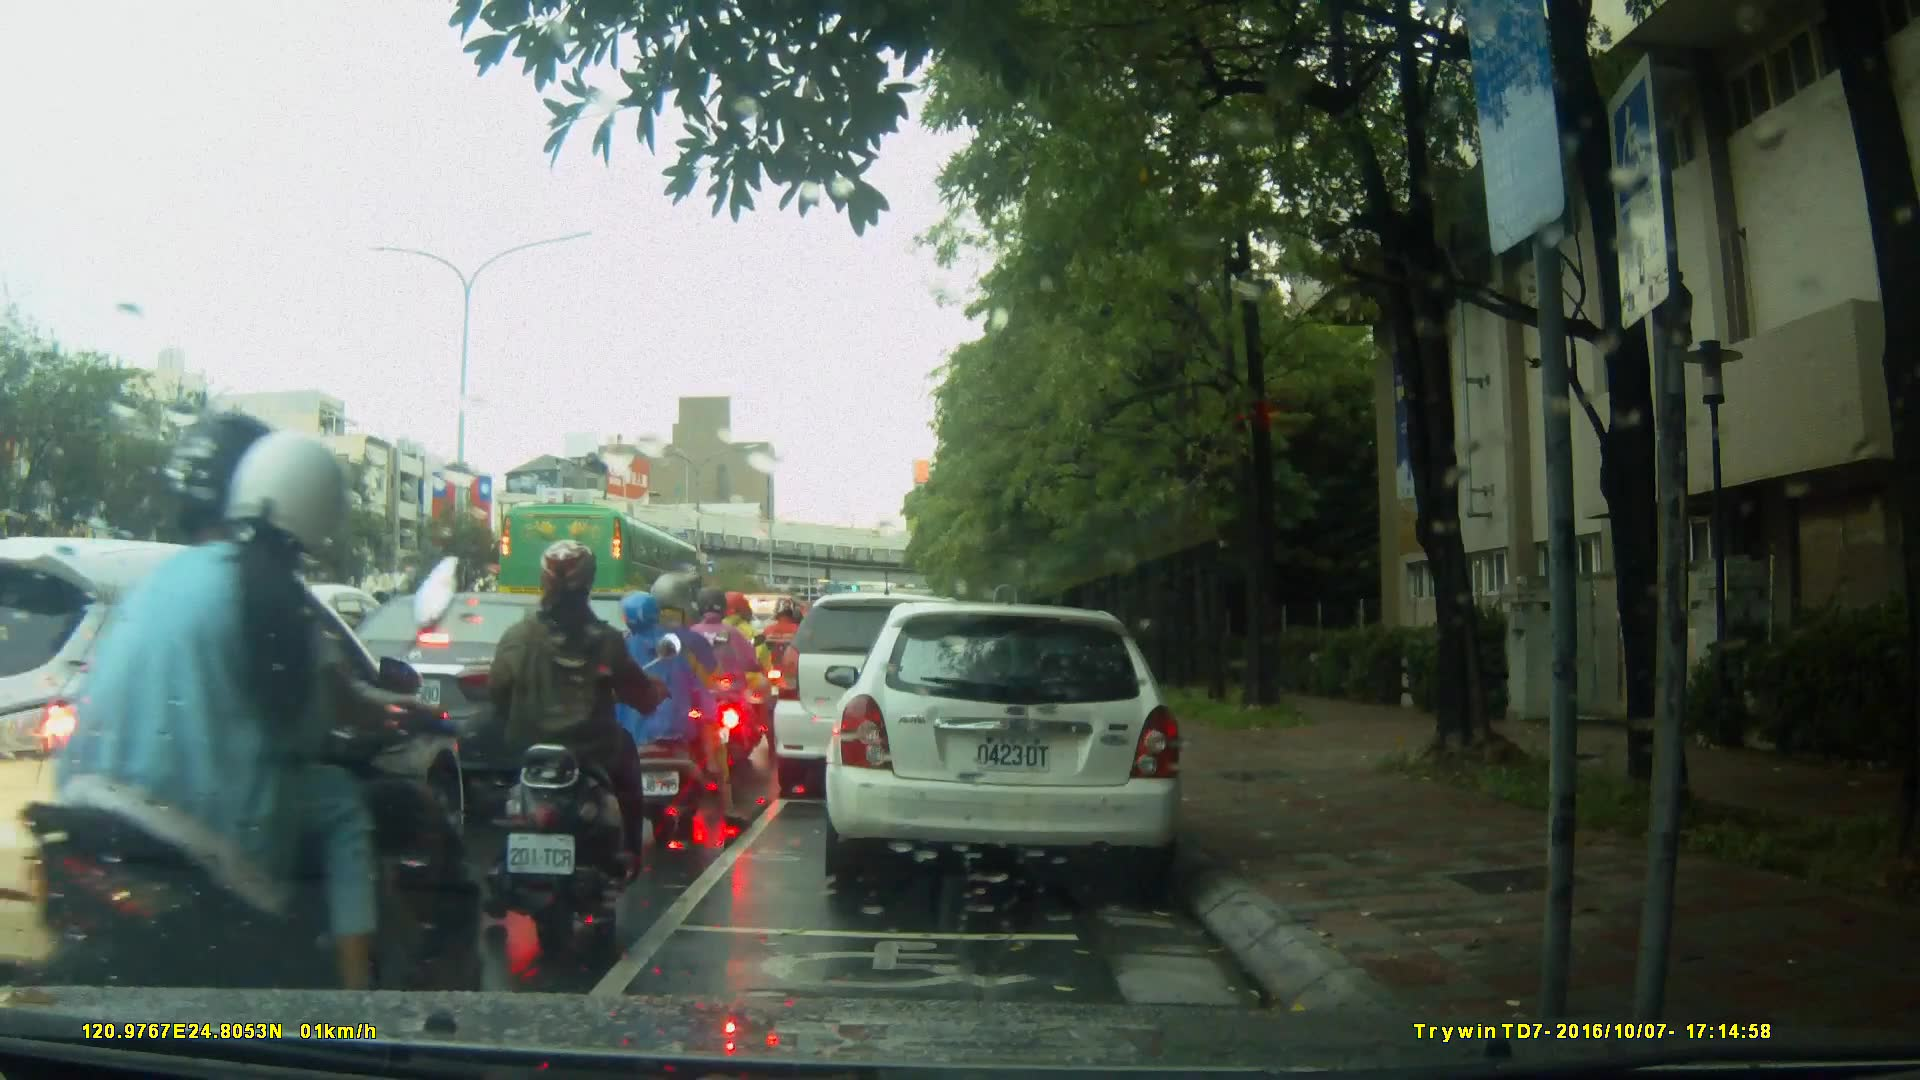rider: (38, 409, 494, 1050), (483, 535, 674, 942), (617, 578, 716, 829), (682, 591, 753, 777), (719, 594, 787, 766), (764, 596, 810, 734)
vehicle: (4, 535, 467, 988), (831, 592, 1196, 897), (312, 589, 629, 776), (771, 590, 999, 804), (501, 503, 709, 636)
